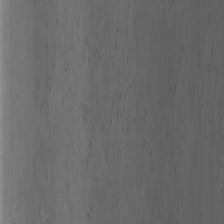silk_spot: (60, 18, 166, 197)
